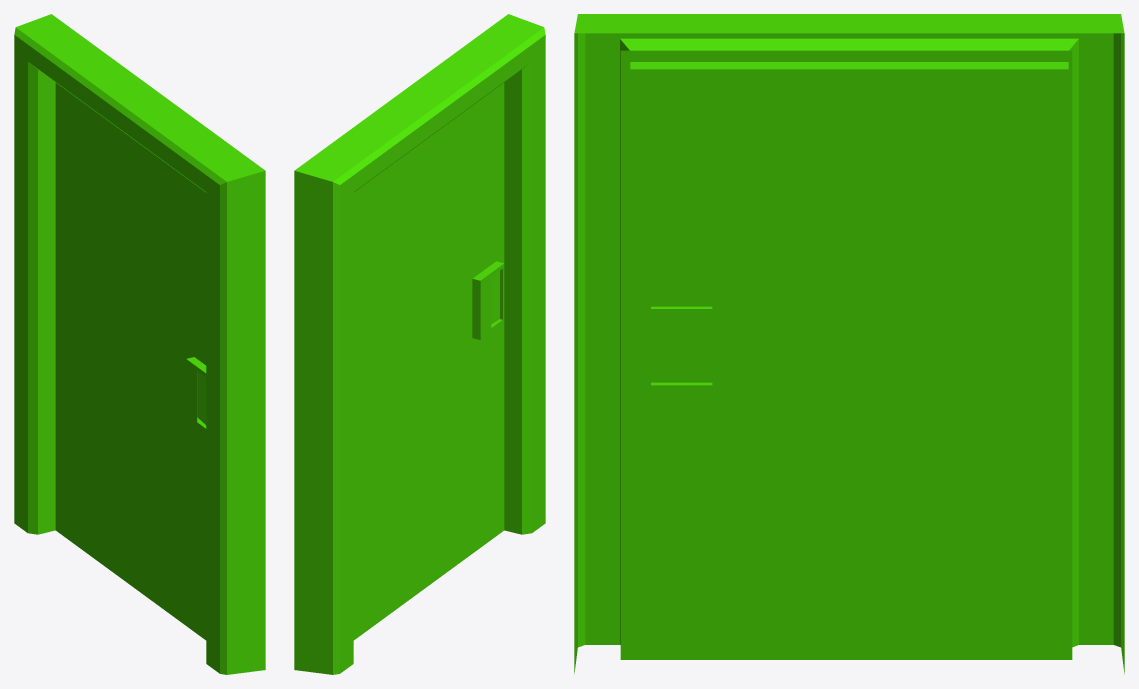
Rendered from Door.fbx.
3 views of the same model, side by side, from view 1: azimuth 30°, elevation 25°; view 2: azimuth 150°, elevation 25°; view 3: azimuth 270°, elevation 25° (orthographic). The views are drawn at different scales.
Visible parts, largest first — view 1: Door1; view 2: Door1; view 3: Door1.
Part boxes in pixels (bbox=[...]): Door1: bbox=[14, 14, 265, 674]; Door1: bbox=[294, 14, 545, 674]; Door1: bbox=[574, 14, 1124, 673].
Bounding box in the file's own units: 0.6425 × 7.4 × 5.75.
